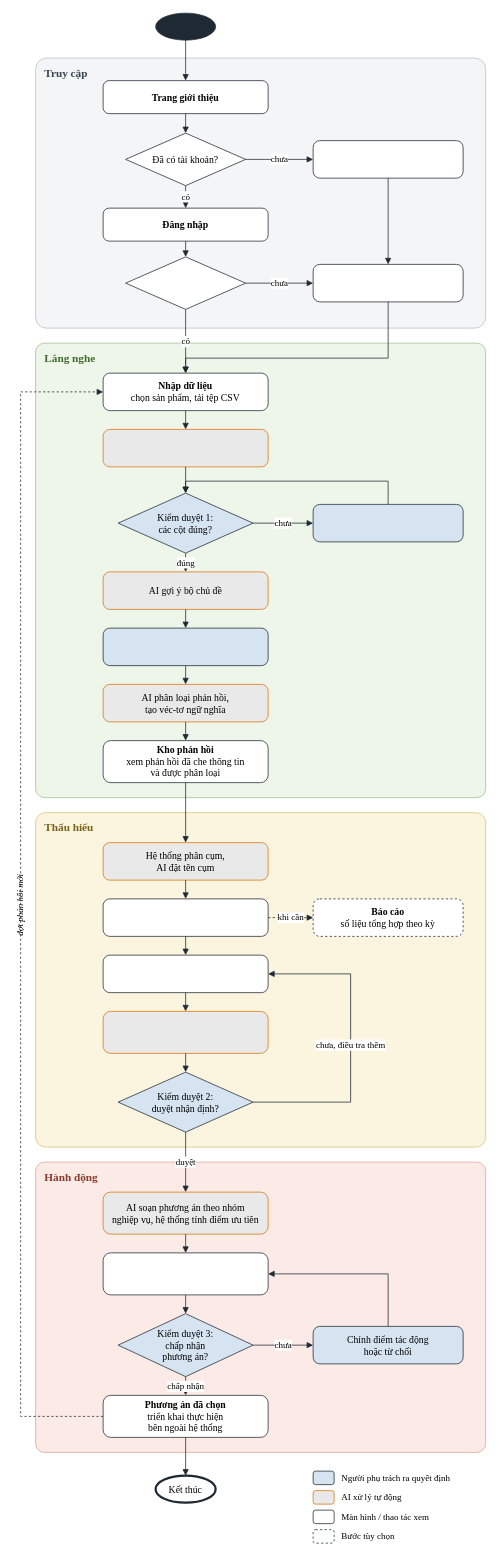
The diagram is 499 pixels wide and 1557 high, and some of its shapes have lost their labels. Each missing label, with the centre of its shape:
AI đề xuất ý nghĩa từng cột: the point at 185,448
Bắt đầu: the point at 185,26
Chủ đề sửa và áp dụng bộ chủ đề: the point at 185,646
Hướng dẫn bắt đầu tạo sản phẩm đầu tiên: the point at 387,283
Khám phá xem cụm chủ đề và mức biến động: the point at 185,917
Ma trận ưu tiên xem phương án và điểm ưu tiên: the point at 185,1273
Sửa ý nghĩa cột: the point at 387,523
Tác tử AI tra cứu dữ liệu, ghi bằng chứng, tổng hợp nhận định: the point at 185,1032
Đã có sản phẩm?: the point at 185,282
Đăng ký (thư điện tử hoặc Google): the point at 387,159
Đặt câu hỏi điều tra: the point at 185,973
